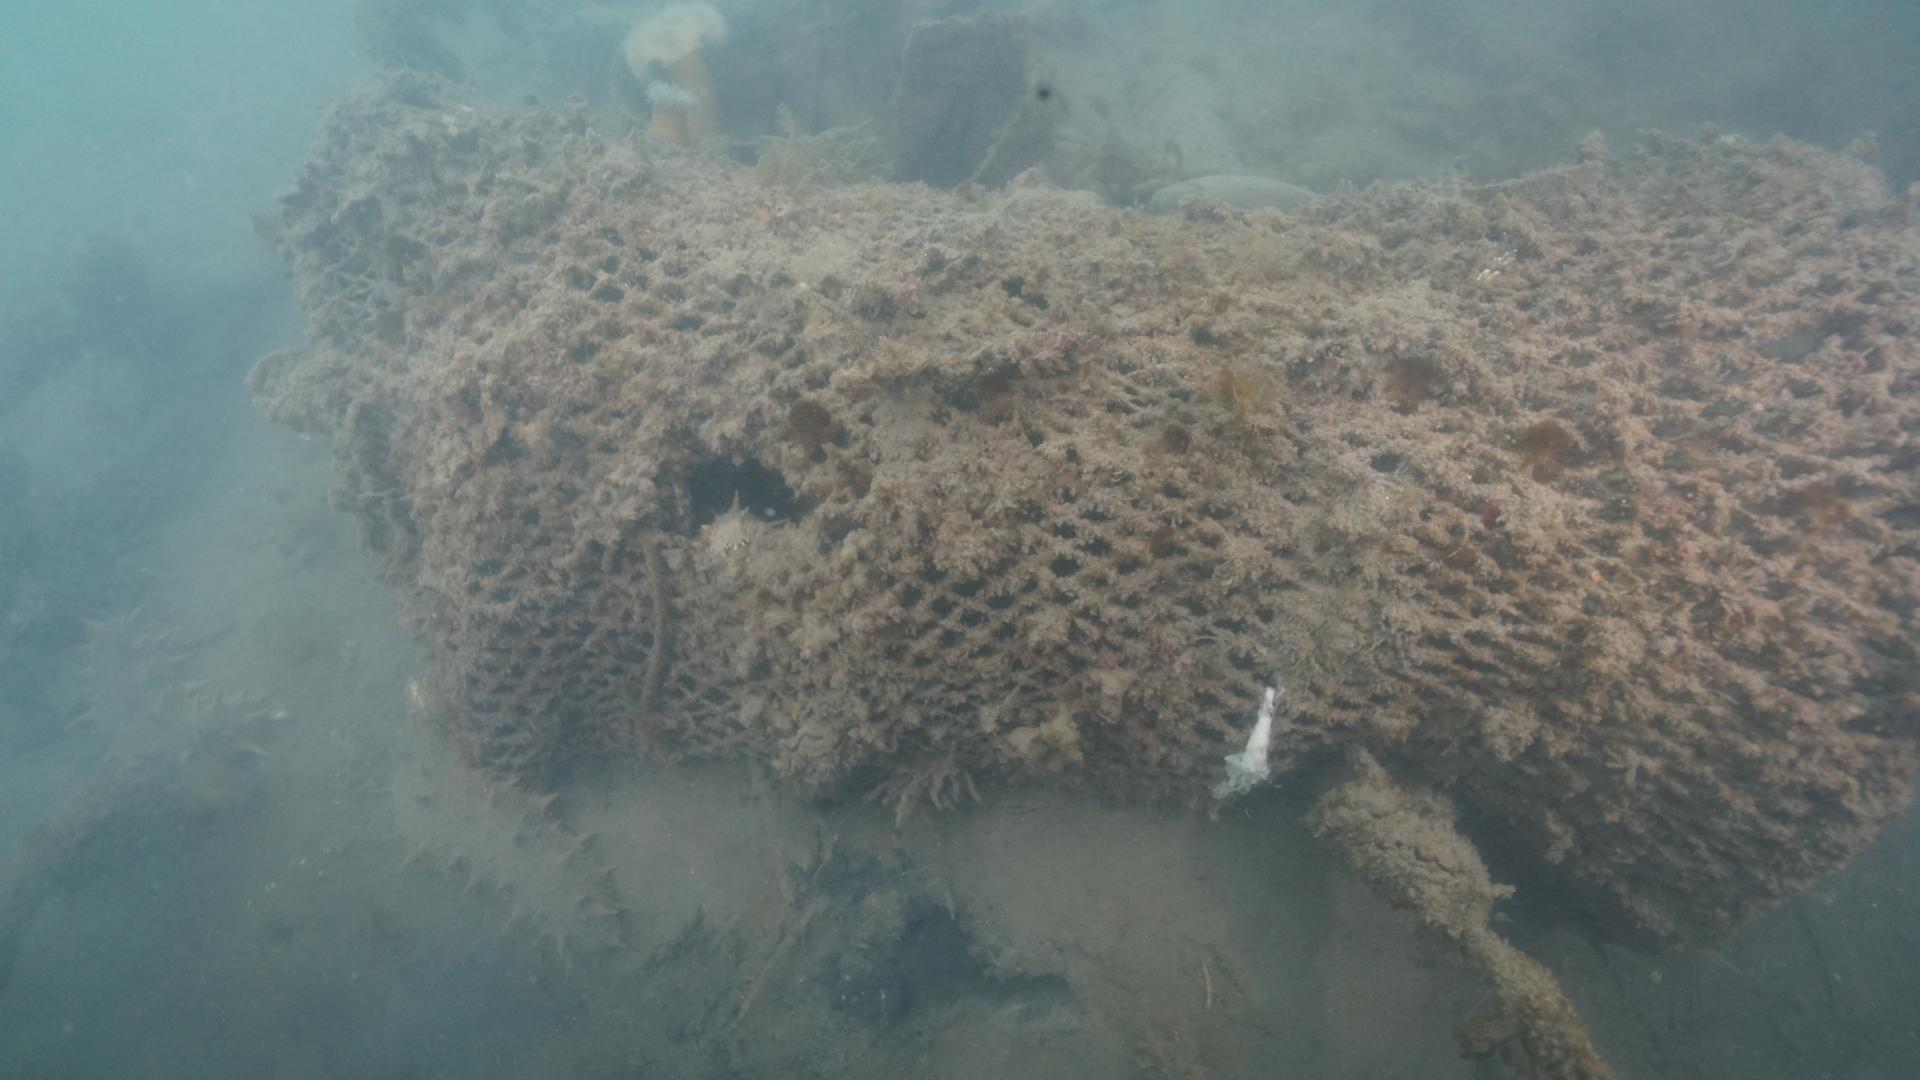spring fish trap: (248, 79, 1915, 951)
